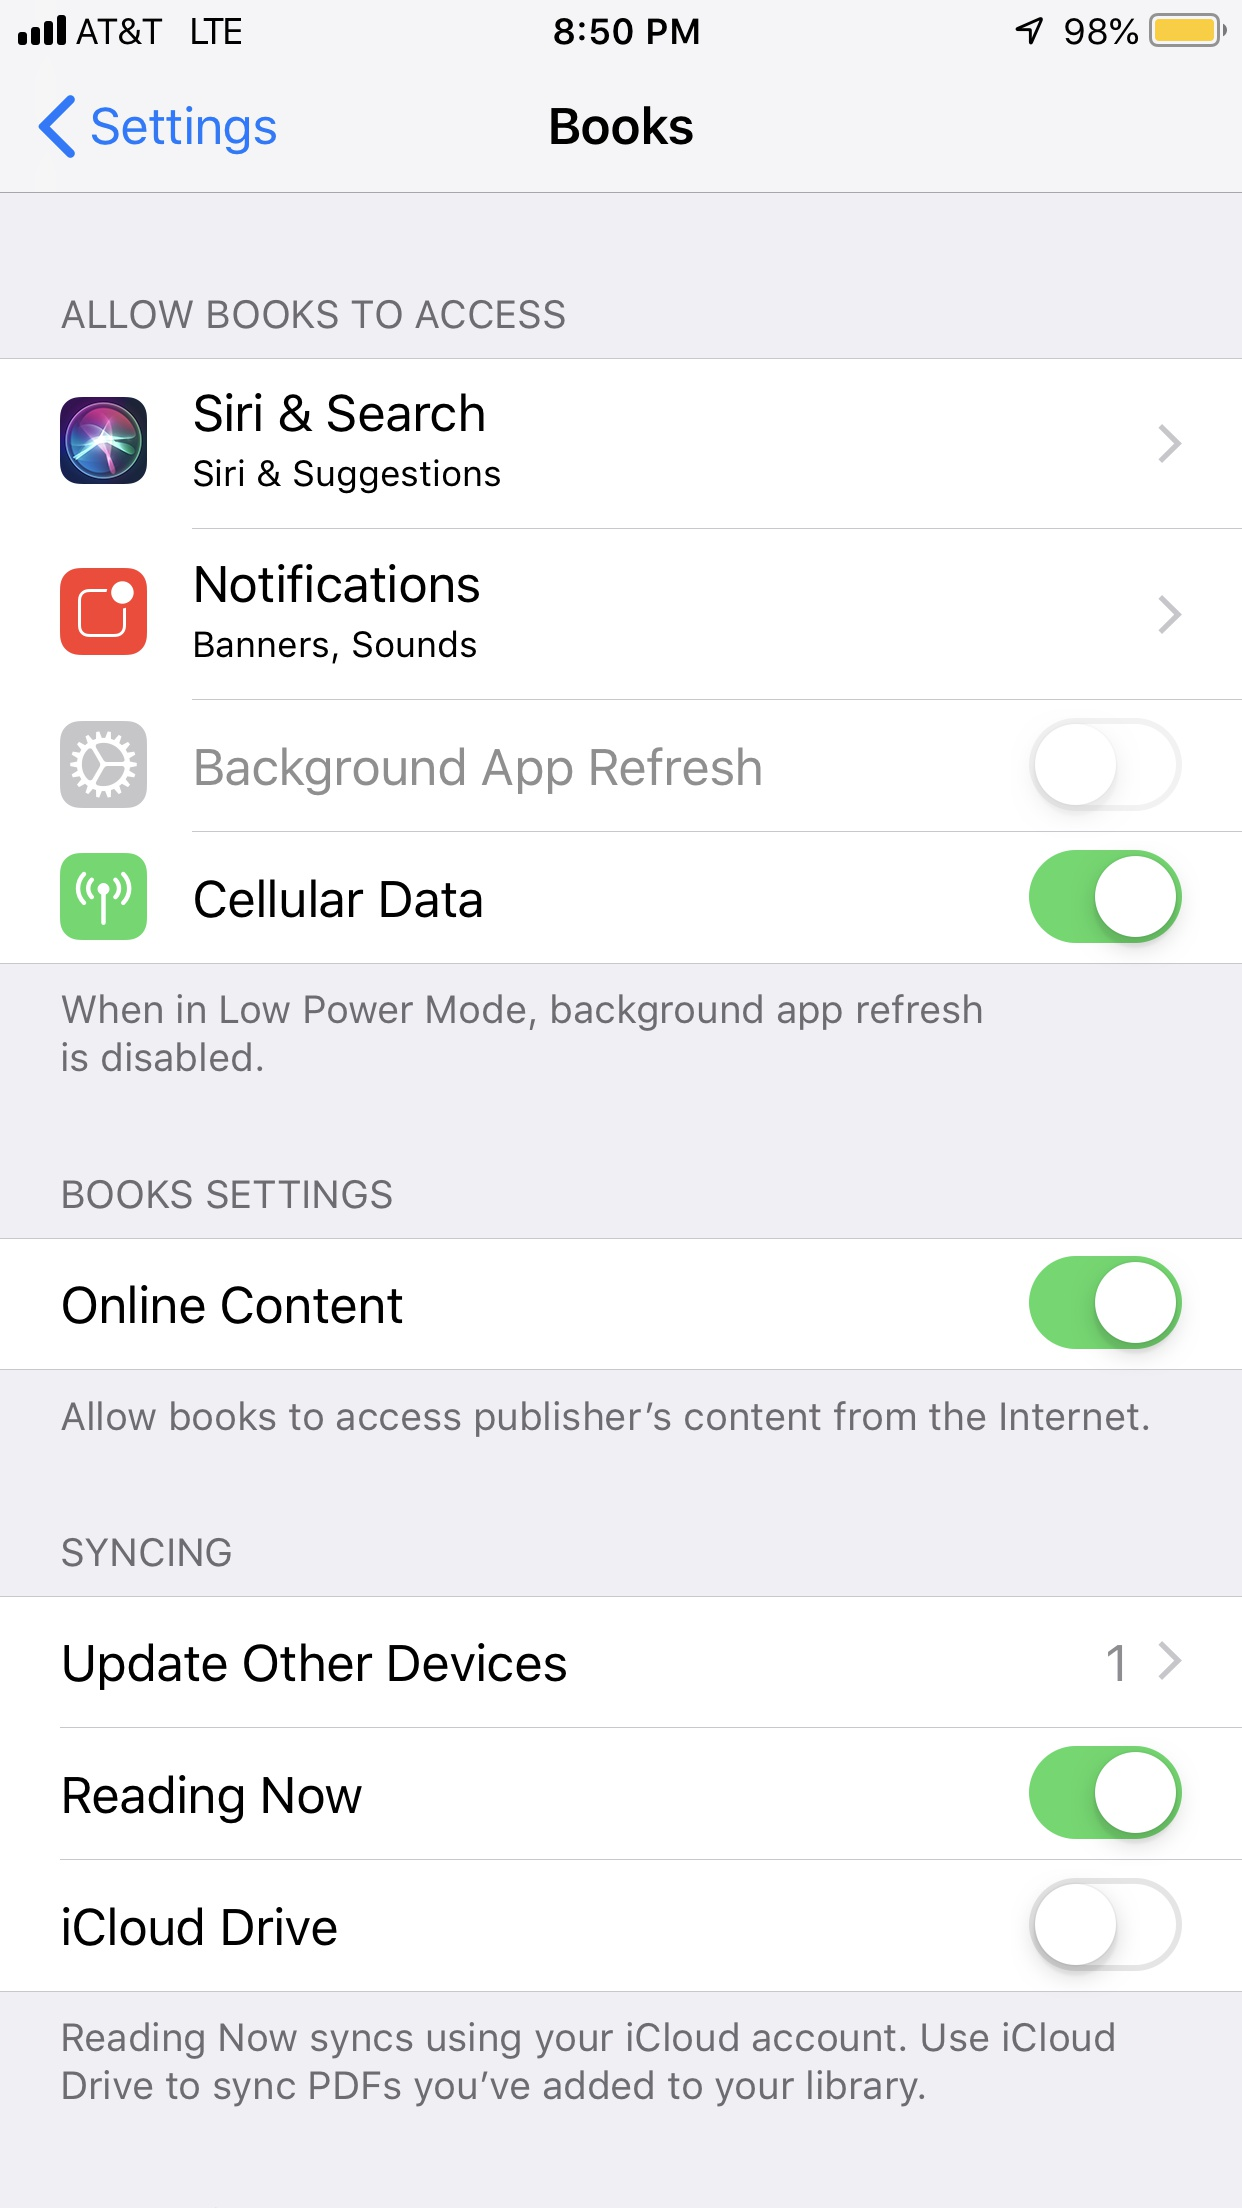Icon: (61, 720, 149, 808), (39, 96, 77, 161), (1159, 1639, 1183, 1680), (1159, 594, 1183, 635), (1159, 425, 1183, 464)
Image: (61, 852, 149, 942), (61, 567, 149, 657), (61, 397, 149, 485)
Switch: (1028, 717, 1183, 813), (1028, 1877, 1183, 1971), (1028, 849, 1183, 943), (1030, 1745, 1183, 1839), (1030, 1256, 1183, 1350)
Text: (64, 2021, 1115, 2108), (62, 993, 983, 1072), (61, 1400, 1149, 1438), (196, 746, 761, 796), (64, 1642, 567, 1691), (61, 300, 566, 331), (64, 1774, 364, 1824), (64, 1284, 403, 1325), (196, 393, 485, 434), (196, 880, 482, 919), (64, 1906, 338, 1947), (197, 564, 481, 604), (194, 459, 500, 494), (64, 1178, 393, 1210), (196, 629, 478, 666), (91, 106, 278, 156), (61, 1535, 234, 1570), (550, 106, 695, 147), (1107, 1645, 1124, 1682)
UpperTaskBar: (2, 2, 1242, 49)
